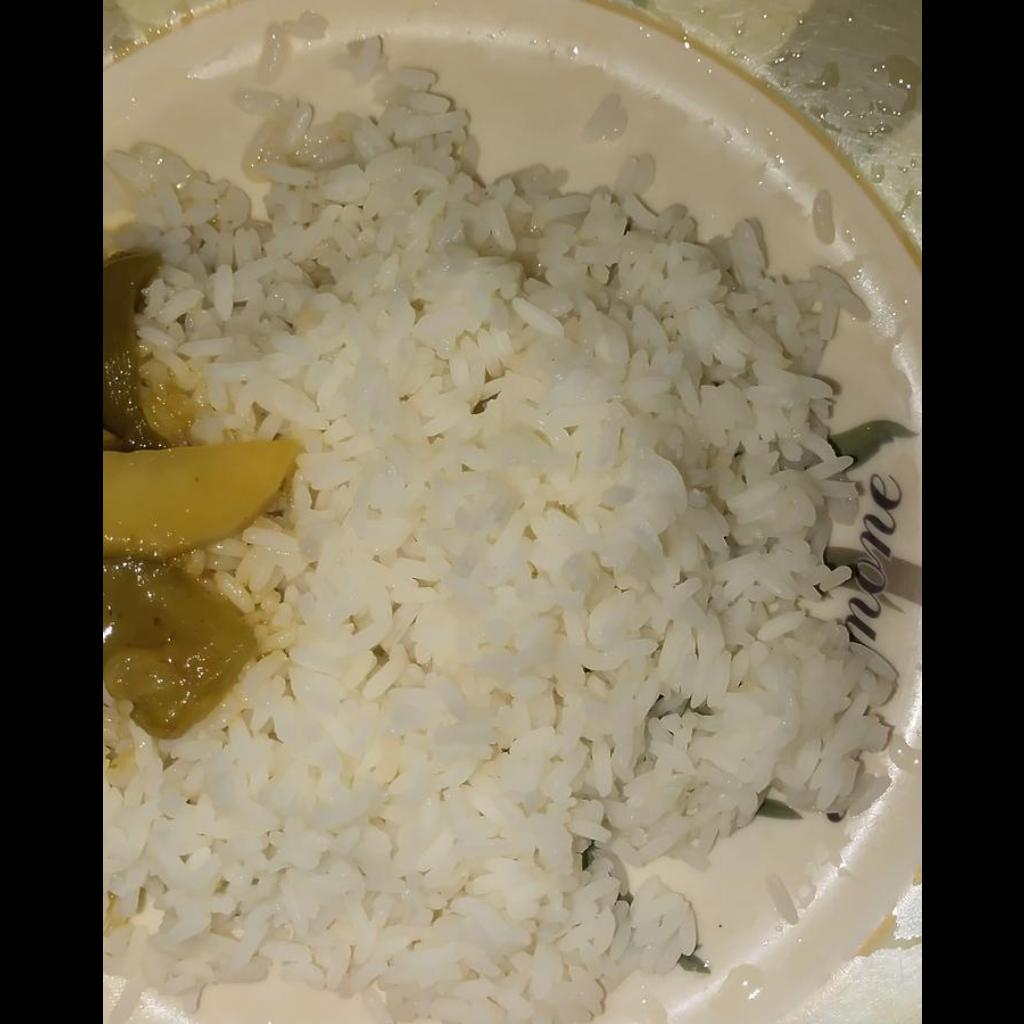rice: (102, 70, 899, 1023)
vegetable: (102, 254, 302, 742)
